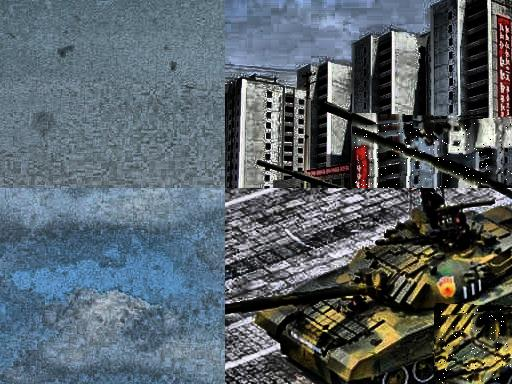tanks: (226, 202, 512, 384), (354, 124, 512, 189), (436, 312, 512, 384), (259, 162, 350, 189), (401, 185, 410, 189)
